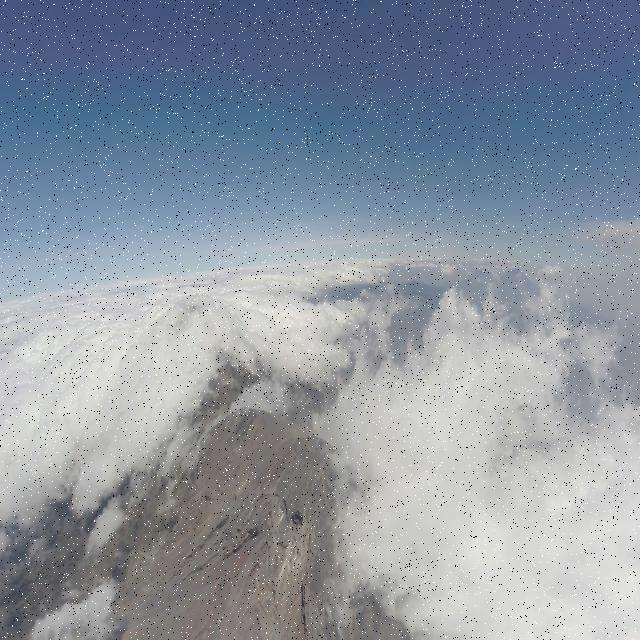Summit: (266, 433, 336, 586)
